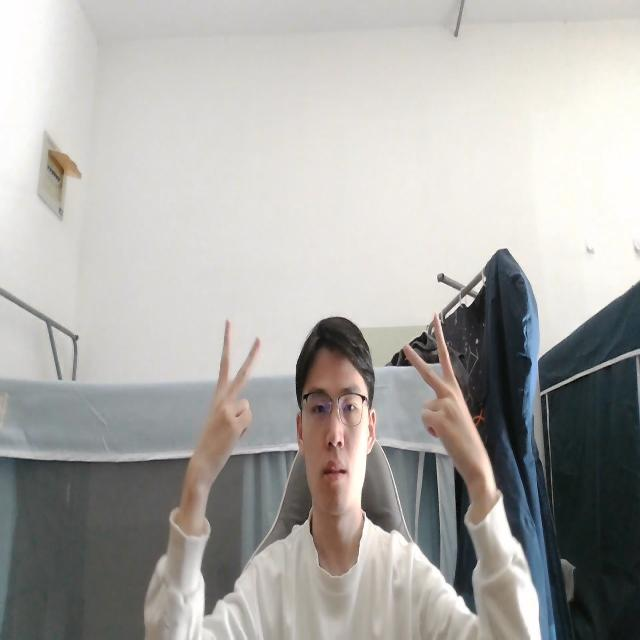yes: (397, 306, 493, 491), (184, 312, 264, 494)
